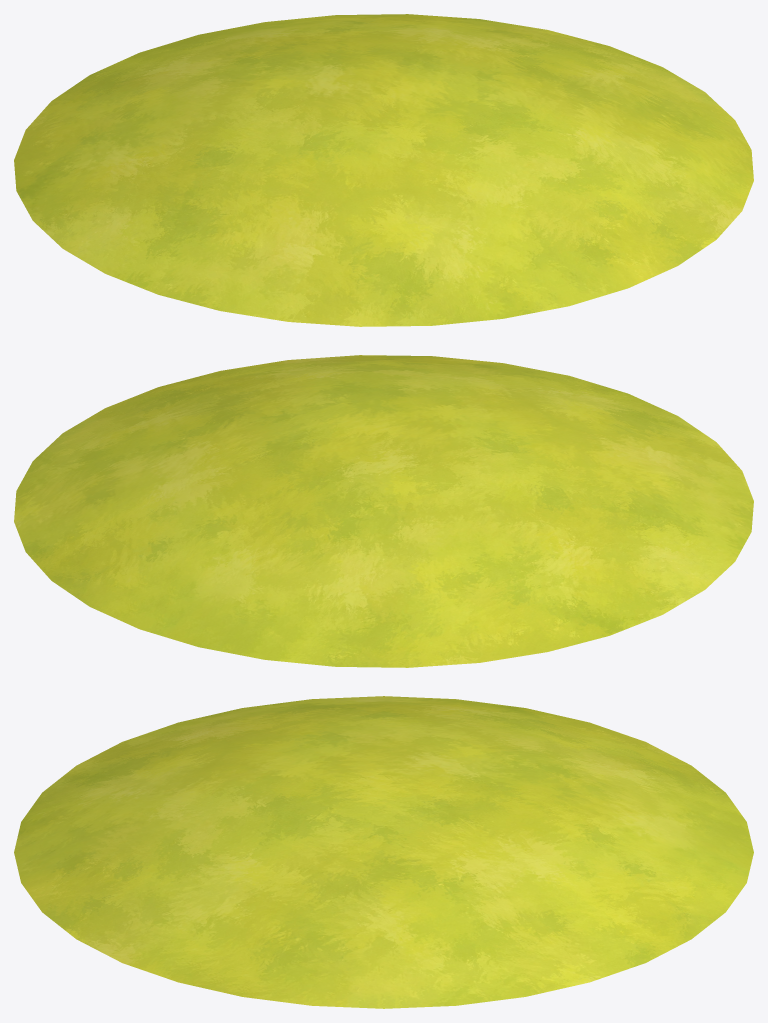
Rendered from Farm_Ground_03.fbx.
3 views of the same model, one above another, from view 1: azimuth 30°, elevation 25°; view 2: azimuth 150°, elevation 25°; view 3: azimuth 270°, elevation 25° (orthographic).
Parts seen in each view (by area): view 1: Farm_Ground_03; view 2: Farm_Ground_03; view 3: Farm_Ground_03.
Boxes of the visible parts, x1,y1,x2,y2 form: Farm_Ground_03: [14, 14, 753, 326]; Farm_Ground_03: [14, 355, 753, 667]; Farm_Ground_03: [14, 696, 753, 1008].
Size of the model in its own units: 1561 by 1561 by 181.
